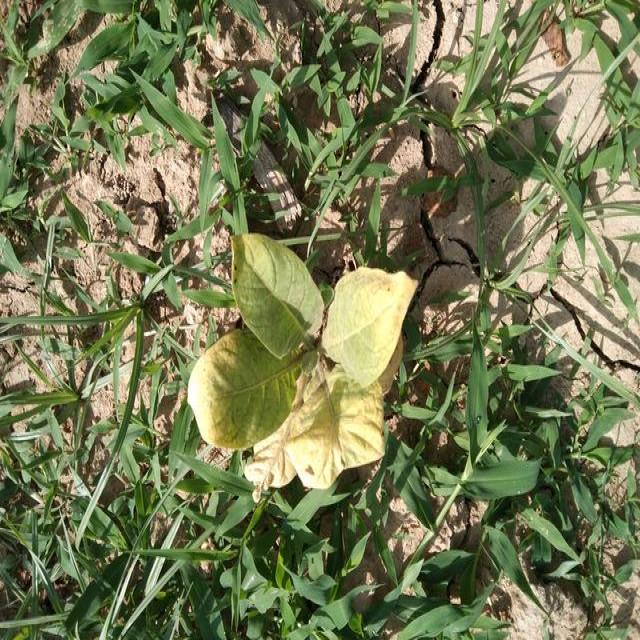crop: (181, 212, 423, 488)
